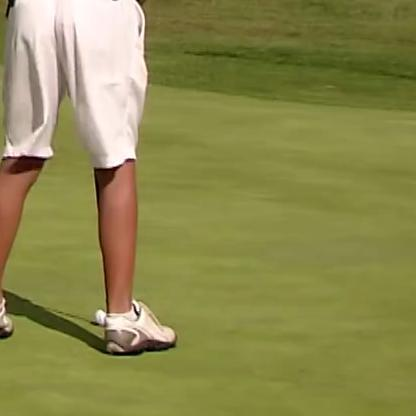golfball: (95, 303, 105, 321)
